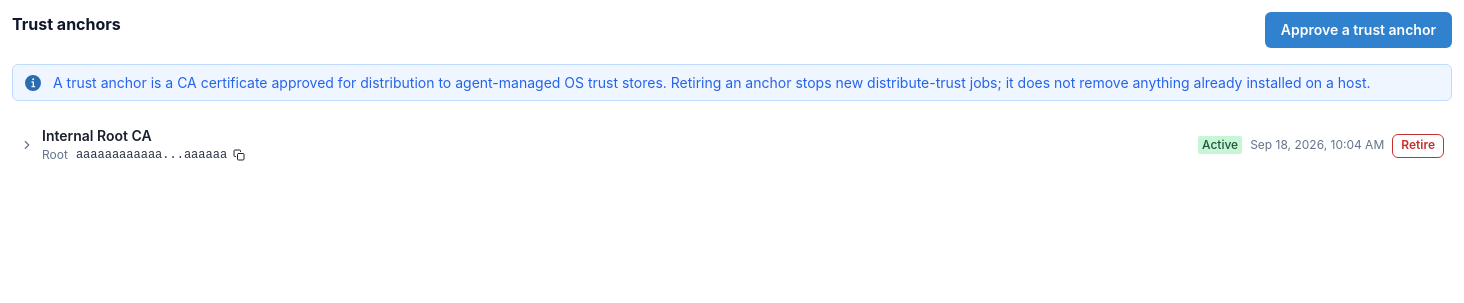
Test: TrustAnchorsPanel › renders installation rows with owner, host, store, and state
This screenshot has width=1464, height=303.
Step 1. Click the text "Internal Root CA" → (97, 136), box [42,127,152,144]
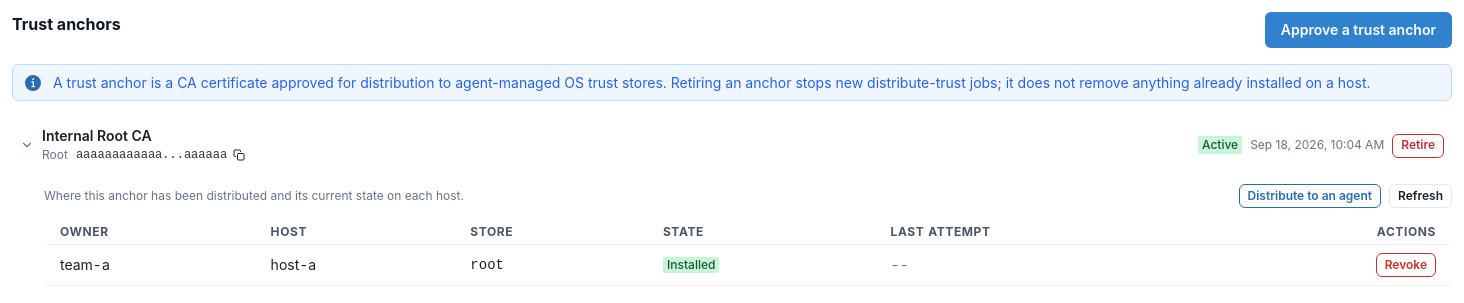
Expected: the text "team-a" is shown, [60,256,110,273]
Expected: the text "host-a" is shown, [271,256,316,273]
Expected: the text "Installed" is shown, [663,257,719,273]
